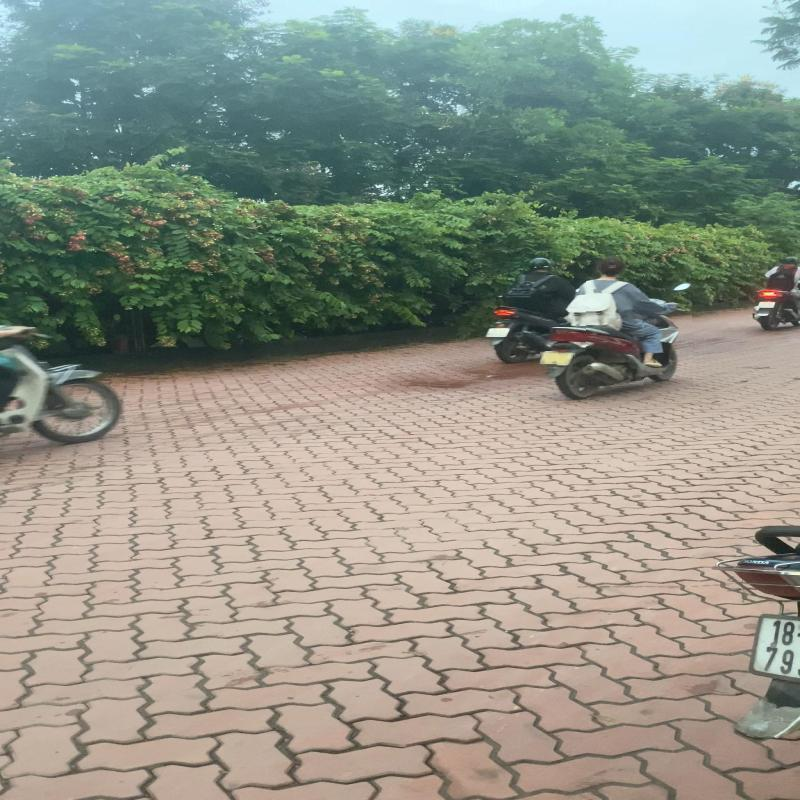licenseplate: (540, 352, 574, 366)
motorcyclist: (536, 255, 692, 400)
nohelmet: (598, 256, 626, 278)
